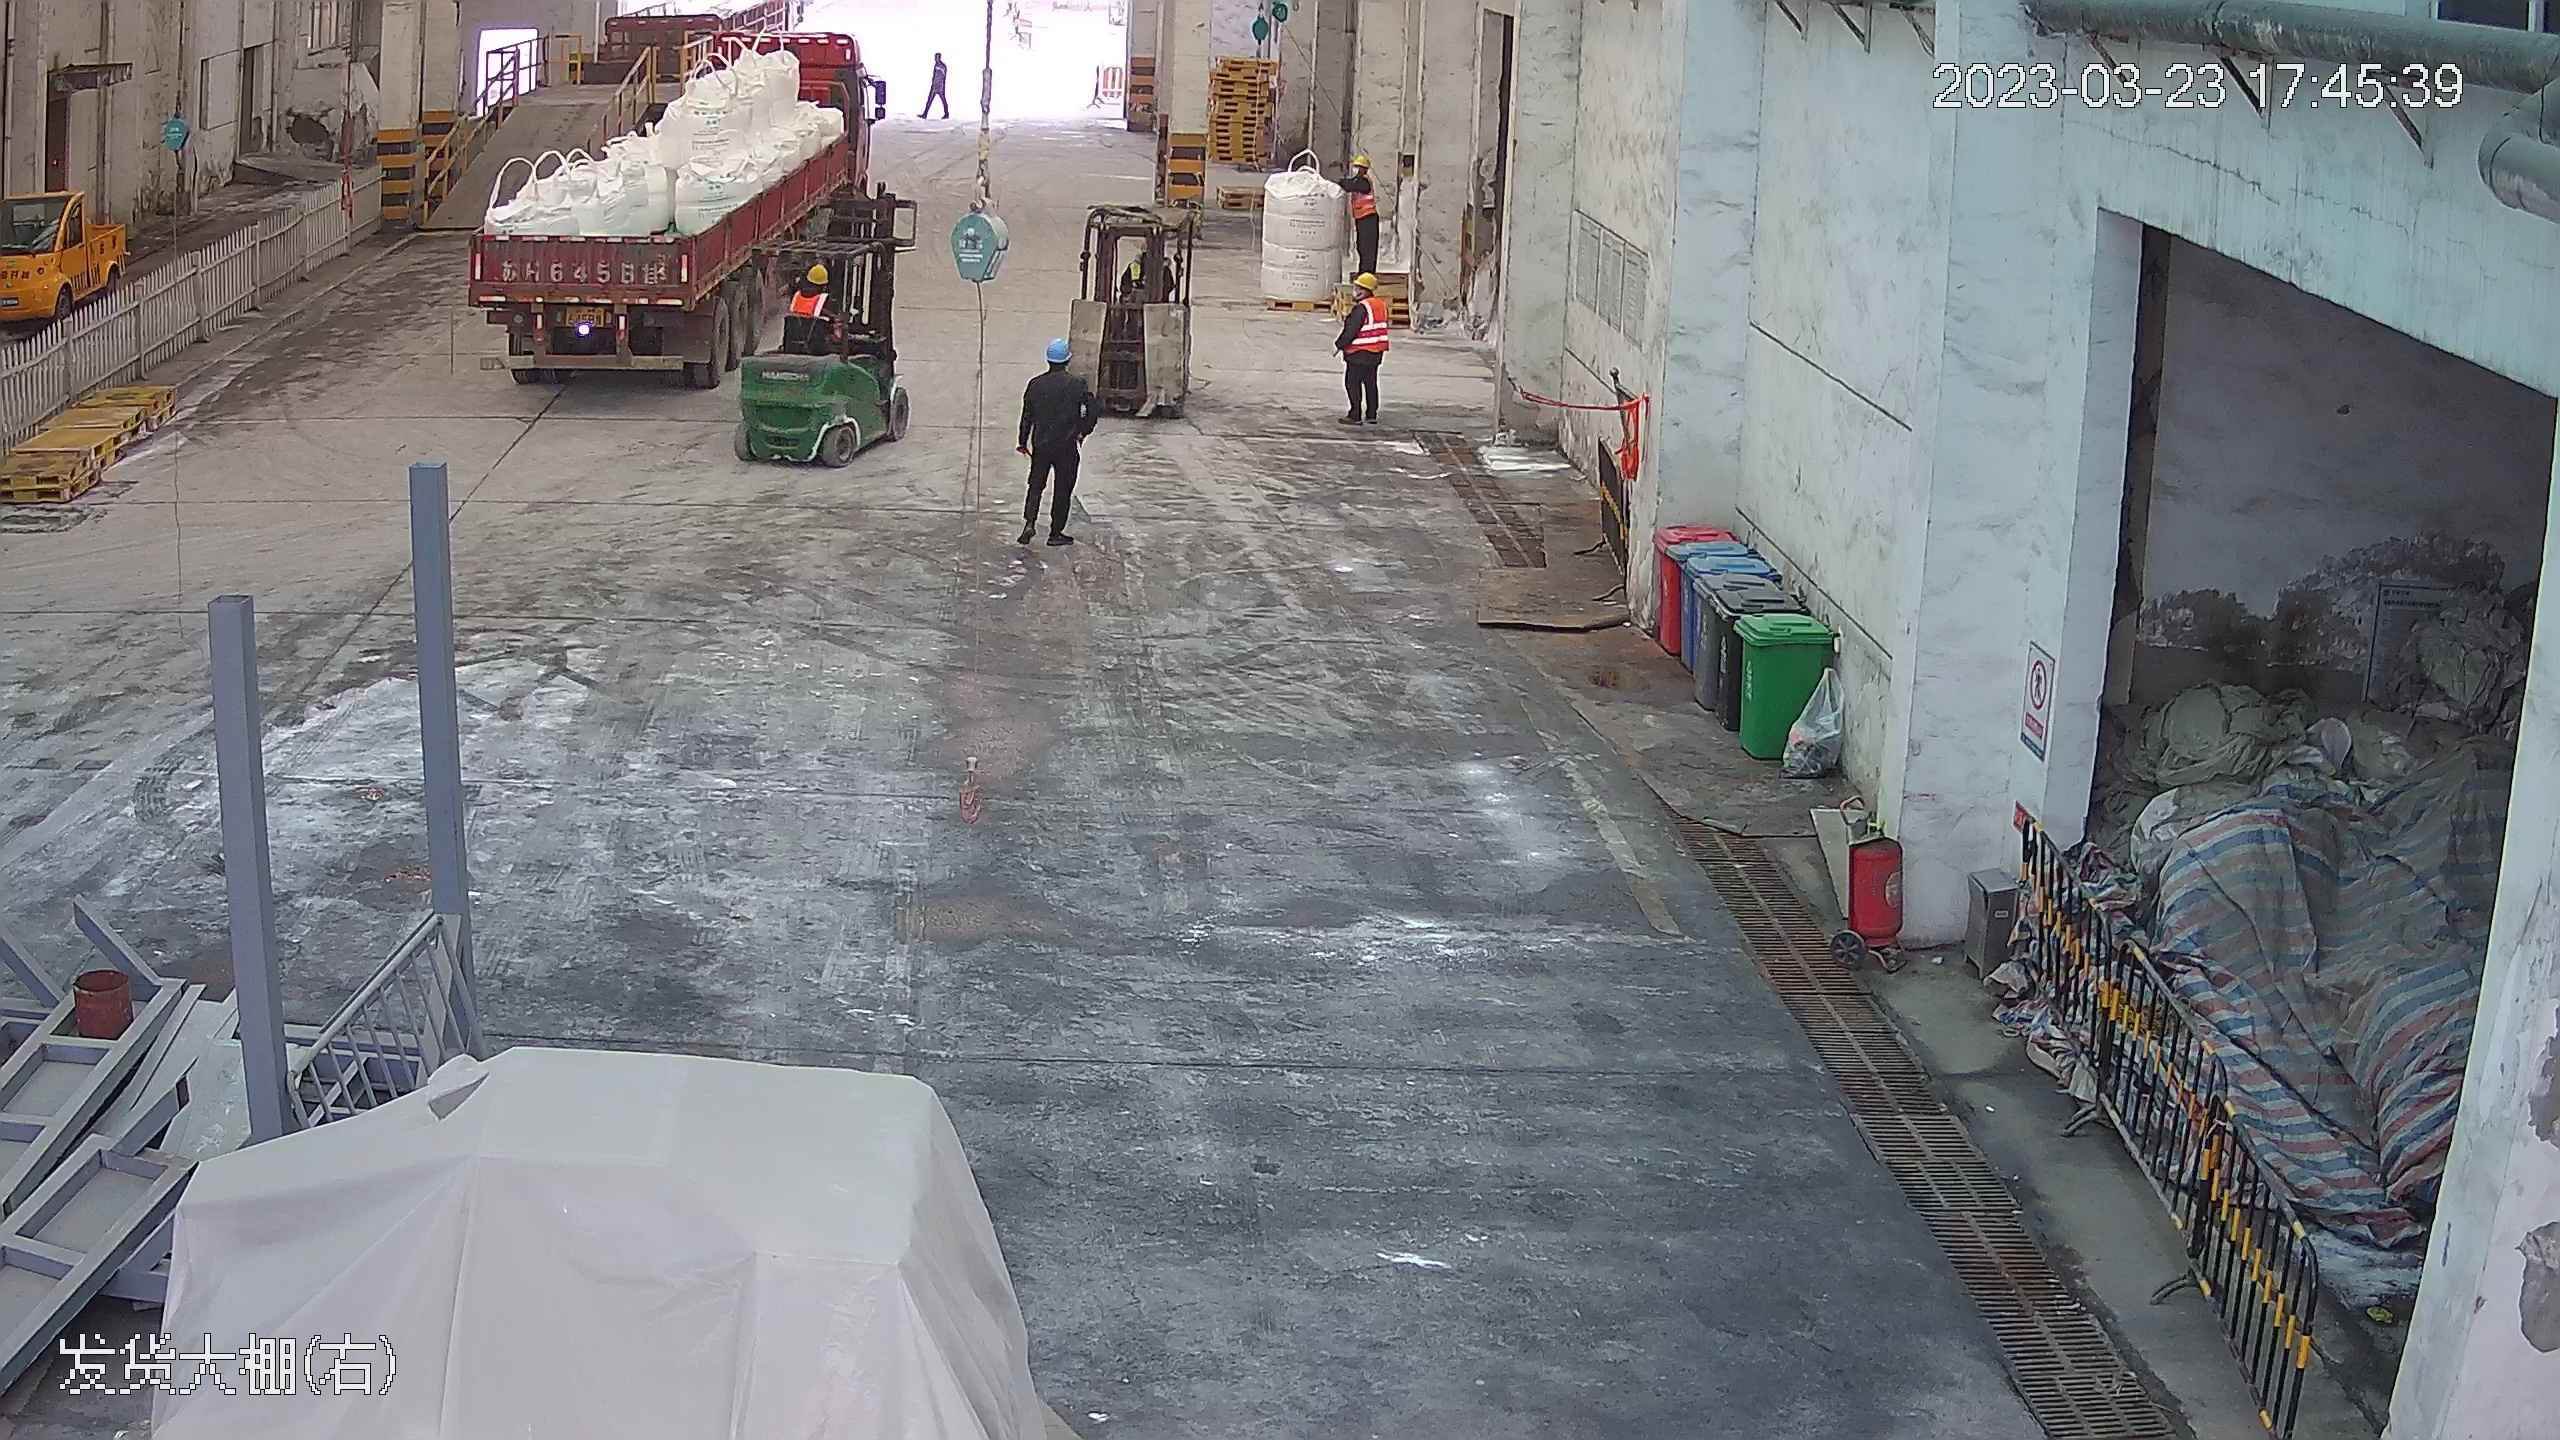head: (1021, 333, 1090, 404), (1343, 271, 1387, 325), (792, 258, 836, 308), (1341, 152, 1379, 199)
helmet: (1043, 333, 1074, 360), (1351, 151, 1374, 173), (801, 258, 825, 280), (1356, 274, 1376, 294)
people: (1014, 331, 1094, 549), (1334, 270, 1392, 430), (1340, 151, 1388, 291), (920, 44, 949, 122)
truck: (454, 8, 866, 384)
